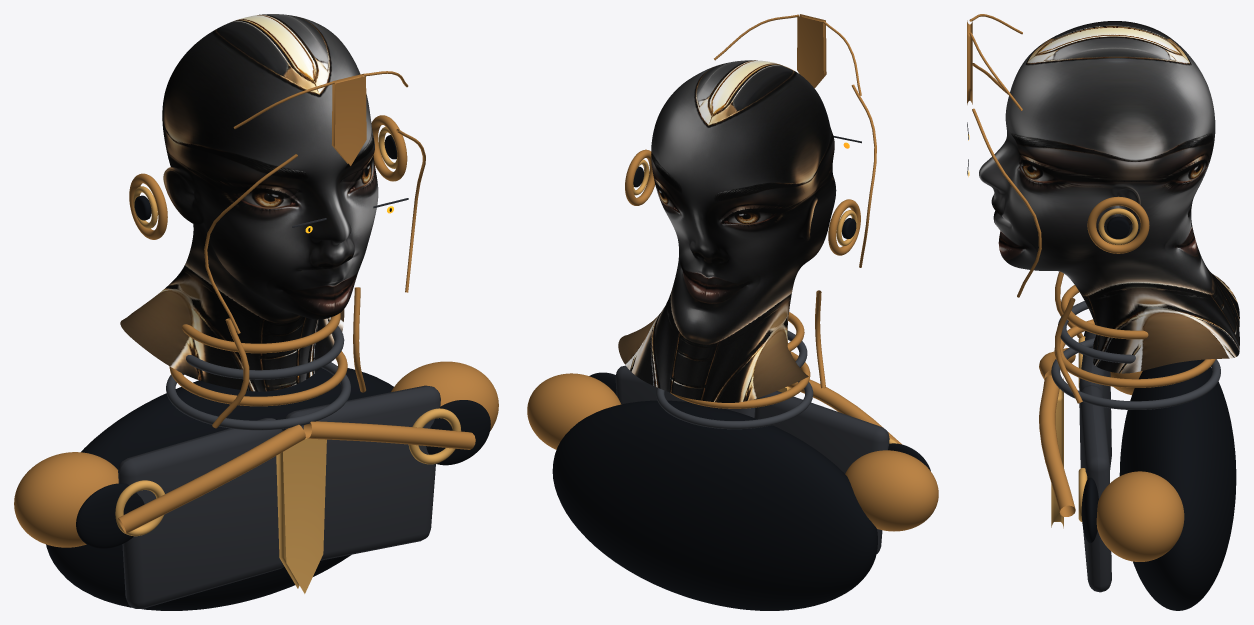
Rendered from lena-robot-production.glb.
3 views of the same model, side by side, from view 1: azimuth 30°, elevation 25°; view 2: azimuth 150°, elevation 25°; view 3: azimuth 270°, elevation 25° (orthographic). The views are drawn at different scales.
Visible parts, largest first — view 1: Face_Shell, Chest_Plate_L, Chest_Plate_R, Torso_Core, Shoulder_Armor_L, Sternum_Gold, Chest_Trim_L, Chest_Trim_R, Shoulder_Armor_R, Crown_Center, Shoulder_Recess_L, Neck_Ring_3 (+12 smaller); view 2: Face_Shell, Torso_Core, Shoulder_Armor_L, Chest_Plate_L, Shoulder_Armor_R, Crown_Center, Neck_Ring_3, Chest_Plate_R, Neck_Ring_2, Chest_Trim_L, Ear_Outer_R, Ear_Outer_L (+2 smaller); view 3: Face_Shell, Torso_Core, Shoulder_Armor_R, Chest_Plate_R, Chest_Trim_R, Neck_Ring_3, Neck_Ring_2, Ear_Outer_R, Neck_Ring_0, Chest_Plate_L, Neck_Ring_1, Shoulder_Recess_R (+6 smaller).
Part boxes in pixels (box(x1,y1,x2,y2)): Face_Shell: box(120, 14, 378, 391); Chest_Plate_L: box(118, 418, 284, 608); Chest_Plate_R: box(283, 385, 440, 560); Torso_Core: box(46, 368, 393, 610); Shoulder_Armor_L: box(14, 452, 118, 547); Sternum_Gold: box(276, 438, 326, 593); Chest_Trim_L: box(118, 424, 305, 533); Chest_Trim_R: box(303, 421, 475, 449); Shoulder_Armor_R: box(391, 361, 498, 430); Crown_Center: box(332, 74, 366, 165); Shoulder_Recess_L: box(76, 483, 144, 548); Neck_Ring_3: box(166, 362, 350, 430); Face_Shell: box(618, 60, 836, 402); Torso_Core: box(552, 400, 877, 610); Shoulder_Armor_L: box(845, 450, 938, 531); Chest_Plate_L: box(754, 391, 889, 553); Shoulder_Armor_R: box(527, 373, 621, 449); Crown_Center: box(797, 14, 826, 88); Neck_Ring_3: box(656, 381, 813, 429); Chest_Plate_R: box(615, 365, 754, 417); Neck_Ring_2: box(670, 351, 810, 408); Chest_Trim_L: box(787, 379, 901, 444); Ear_Outer_R: box(625, 149, 655, 205); Ear_Outer_L: box(828, 199, 860, 255); Face_Shell: box(979, 21, 1239, 373); Torso_Core: box(1119, 359, 1236, 610); Shoulder_Armor_R: box(1096, 471, 1184, 561); Chest_Plate_R: box(1079, 385, 1111, 592); Chest_Trim_R: box(1039, 375, 1075, 516); Neck_Ring_3: box(1051, 338, 1220, 409); Neck_Ring_2: box(1054, 319, 1215, 387); Ear_Outer_R: box(1087, 196, 1149, 253); Neck_Ring_0: box(1060, 285, 1148, 339); Chest_Plate_L: box(1079, 331, 1111, 469); Neck_Ring_1: box(1058, 301, 1135, 363); Shoulder_Recess_R: box(1081, 477, 1098, 543).
Bounding box in the file's own units: 3.96 × 4.83 × 2.15.
Materials: 8 (1 with a texture image).
